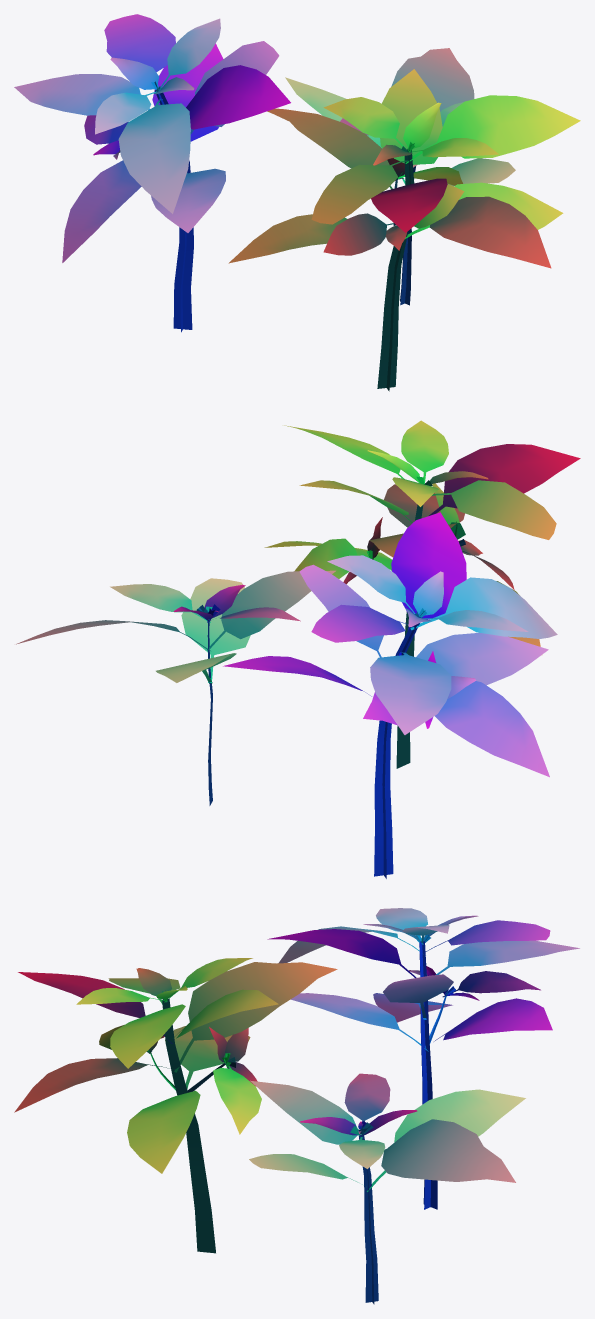
Rendered from Common_Hemp_Nettle_xh1kdfbqx_Mid_xh1kdfbqx_VarE_LOD0.fbx.
The picture shows the model from 3 angles, top to bottom: view 1: azimuth 30°, elevation 25°; view 2: azimuth 150°, elevation 25°; view 3: azimuth 270°, elevation 25°; orthographic projection. The views are drawn at different scales.
Parts seen in each view (by area): view 1: _ngd9_VarE_LOD1; view 2: _ngd9_VarE_LOD1; view 3: _ngd9_VarE_LOD1.
Boxes of the visible parts, x1,y1,x2,y2 form: _ngd9_VarE_LOD1: (14, 14, 580, 391); _ngd9_VarE_LOD1: (16, 420, 580, 878); _ngd9_VarE_LOD1: (14, 908, 579, 1304).
Bounding box in the file's own units: 74.3 × 46.5 × 80.7.
